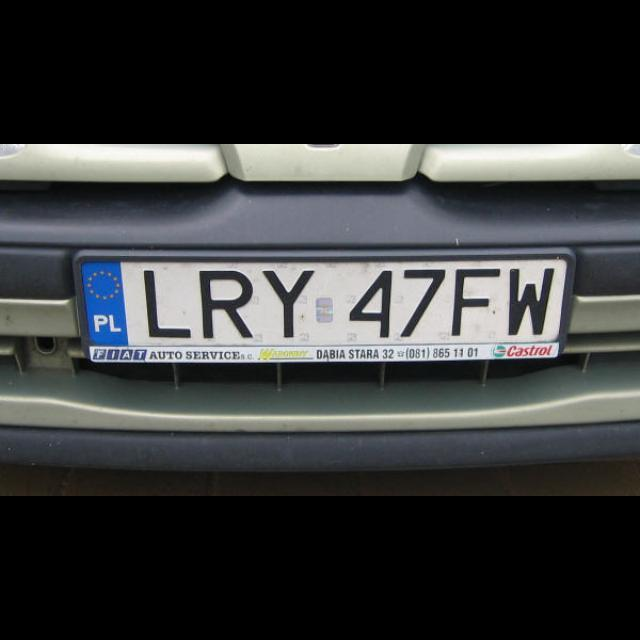license-plates: (75, 251, 574, 363)
